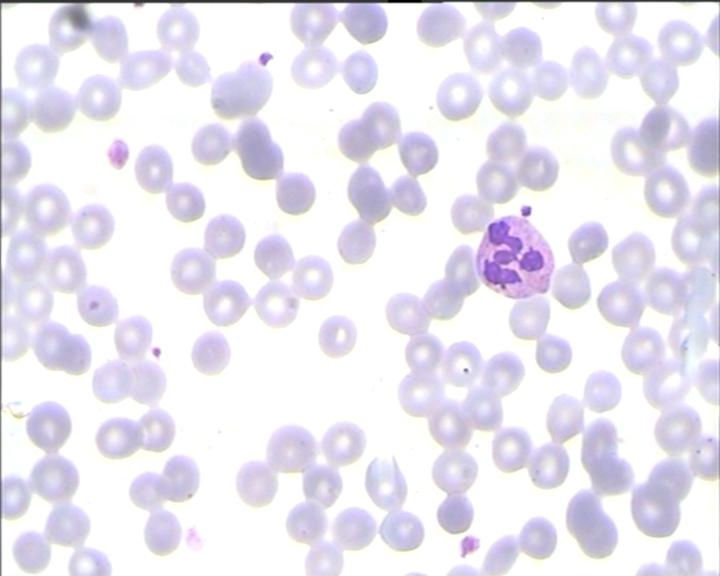neut: (475, 214, 554, 299)
